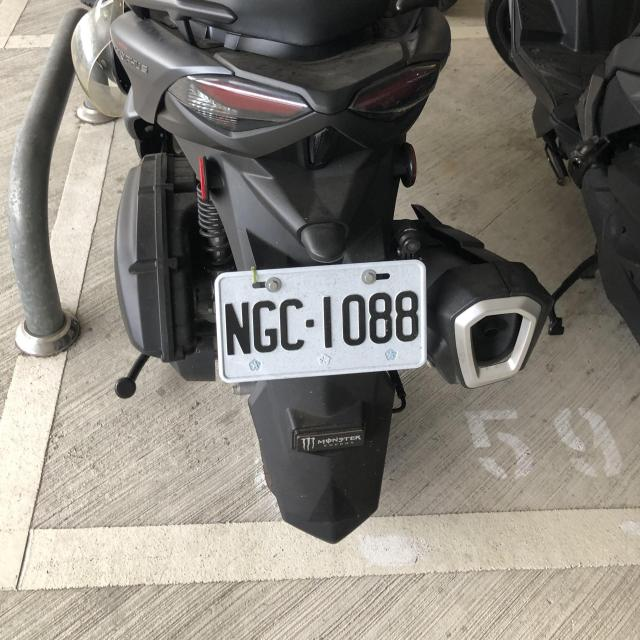W: (212, 256, 432, 387)
